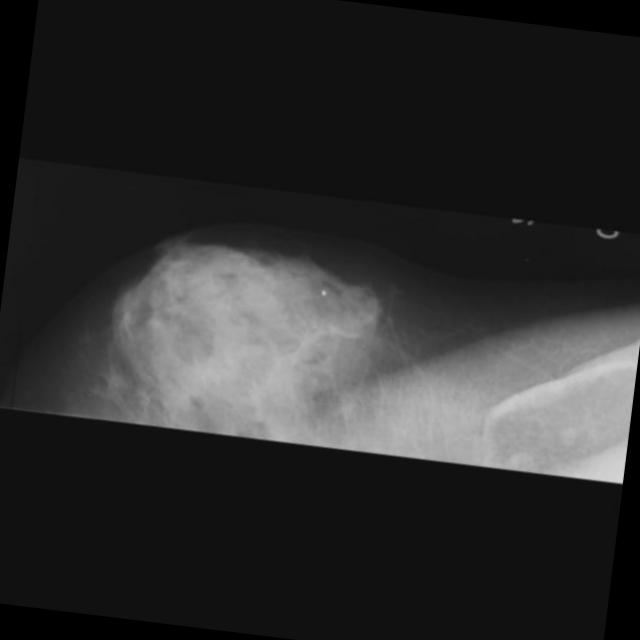CALC: (280, 304, 320, 344)
